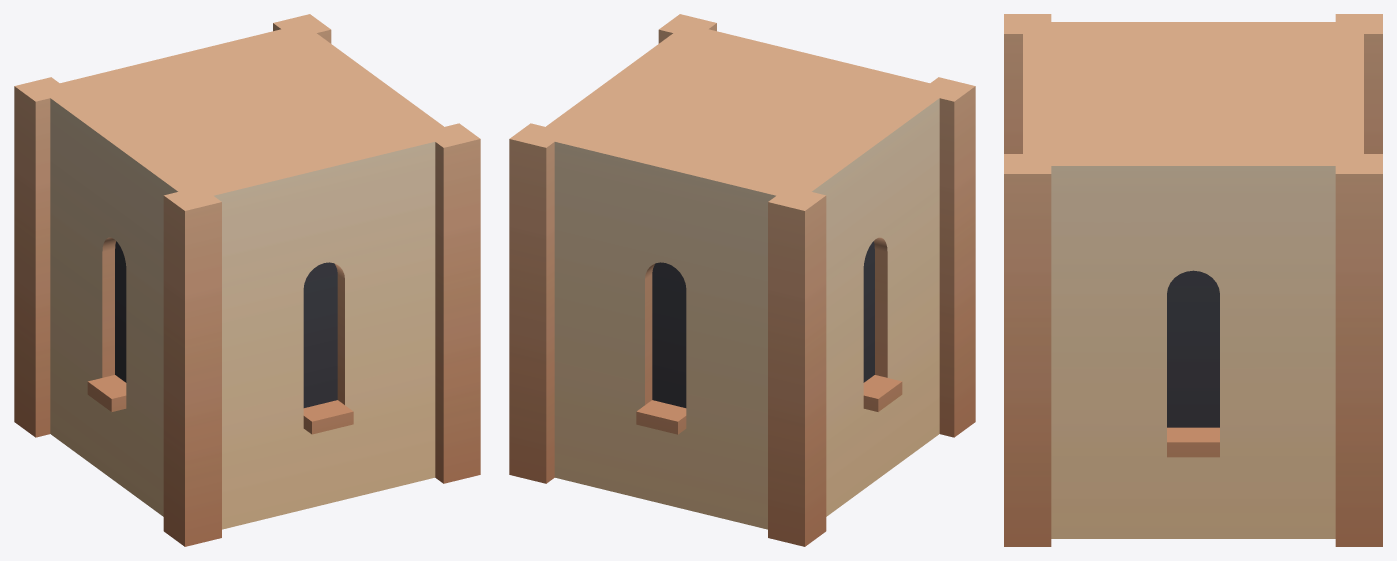
File: kenney-castle-tower-square-mid-windows.glb
3 views of the same model, side by side, from view 1: azimuth 30°, elevation 25°; view 2: azimuth 150°, elevation 25°; view 3: azimuth 270°, elevation 25° (orthographic). The views are drawn at different scales.
Visible parts, largest first — view 1: tower-square-mid-windows; view 2: tower-square-mid-windows; view 3: tower-square-mid-windows.
Boxes of the visible parts, left/top/right/bottom form: tower-square-mid-windows: left=14, top=14, right=480, bottom=546; tower-square-mid-windows: left=509, top=14, right=975, bottom=546; tower-square-mid-windows: left=1004, top=14, right=1382, bottom=546.
Size of the model in its own units: 0.93 by 1.01 by 0.93.
1 material, 1 textured.
